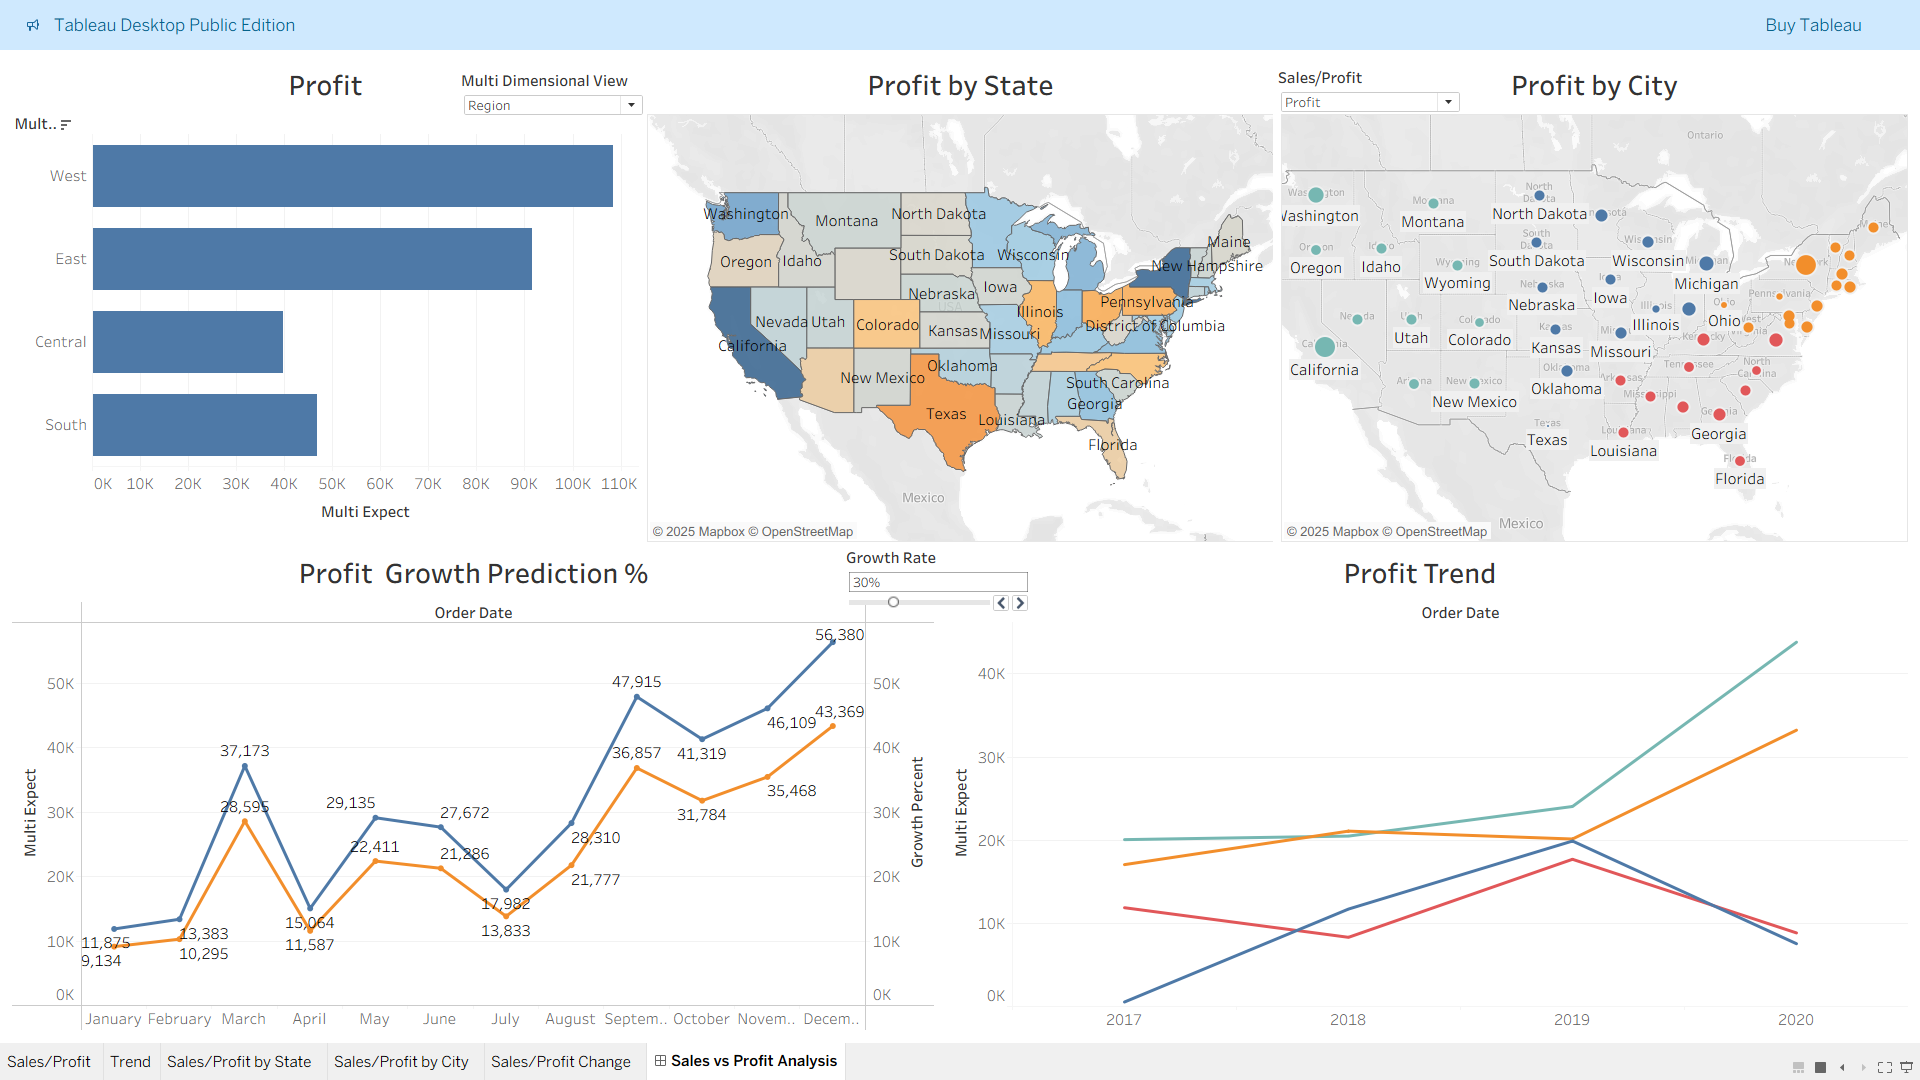

Layout of this report page (visuals, bound fields, positions):
{"tool":"tableau","page":{"name":"Sales vs Profit Analysis","canvas":[1000,1000],"units":"permille","ordinal":0},"visuals":[{"type":"worksheet","title":"Sales/Profit","mark":"Automatic","rows":["Calculation_360850959015321600"],"cols":["Calculation_360850959016562690"],"box":[4.2,10,330.5,490]},{"type":"worksheet","title":"Sales/Profit by State","mark":"Automatic","box":[334.7,10,330.5,490]},{"type":"worksheet","title":"Sales/Profit by City","mark":"Automatic","box":[665.2,10,330.5,490]},{"type":"parameter","param":"[Parameters].[Parameter 2]","box":[665.7,17.5,96.6,59.9]},{"type":"parameter","param":"[Parameters].[Parameter 1]","box":[240.2,20,96.6,59.9]},{"type":"worksheet","title":"Sales/Profit Change","mark":"Automatic","rows":["Calculation_360850959016562690","Calculation_360850959027556357"],"cols":["Order Date"],"box":[4.2,500,484.7,490]},{"type":"worksheet","title":"Trend","mark":"Automatic","rows":["Calculation_360850959016562690"],"cols":["Order Date"],"box":[488.9,500,506.8,490]},{"type":"parameter","param":"[Parameters].[Parameter 3]","box":[440.6,500.6,96.6,88.6]}]}

Visuals, with their boxes on the dashboard's canvas, which has no fixed pixel size, in thousandths of its width and height (x1, y1, x2, y2). These are canvas units, not pixel positions in the 1920x1080 screenshot, which may show the page scaled, cropped or inside an application window:
"Sales/Profit" worksheet: 4, 10, 335, 500
"Sales/Profit by State" worksheet: 335, 10, 665, 500
"Sales/Profit by City" worksheet: 665, 10, 996, 500
parameter: 666, 18, 762, 77
parameter: 240, 20, 337, 80
"Sales/Profit Change" worksheet: 4, 500, 489, 990
"Trend" worksheet: 489, 500, 996, 990
parameter: 441, 501, 537, 589
